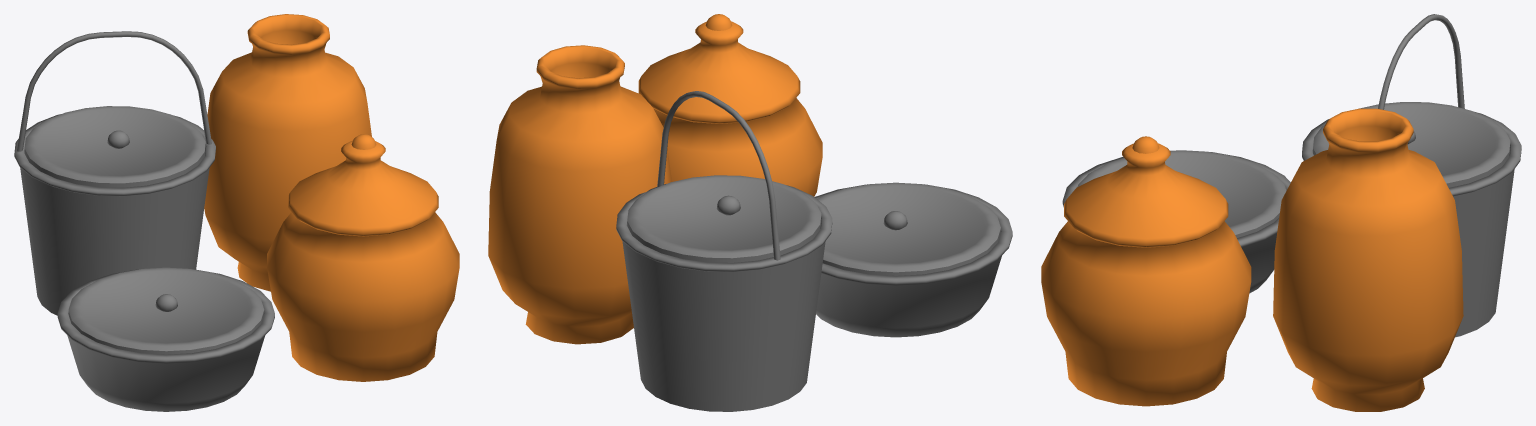
Rendered from SM_pottery_preset_01.fbx.
3 views of the same model, side by side, from view 1: azimuth 30°, elevation 25°; view 2: azimuth 150°, elevation 25°; view 3: azimuth 270°, elevation 25° (orthographic). The views are drawn at different scales.
Parts seen in each view (by area): view 1: Cylinder132; view 2: Cylinder132; view 3: Cylinder132.
Part boxes in pixels (x1,y1,x2,y2): Cylinder132: [14, 14, 459, 411]; Cylinder132: [488, 14, 1012, 411]; Cylinder132: [1041, 14, 1521, 411].
Bounding box in the file's own units: 48.86 × 32.12 × 49.54.
